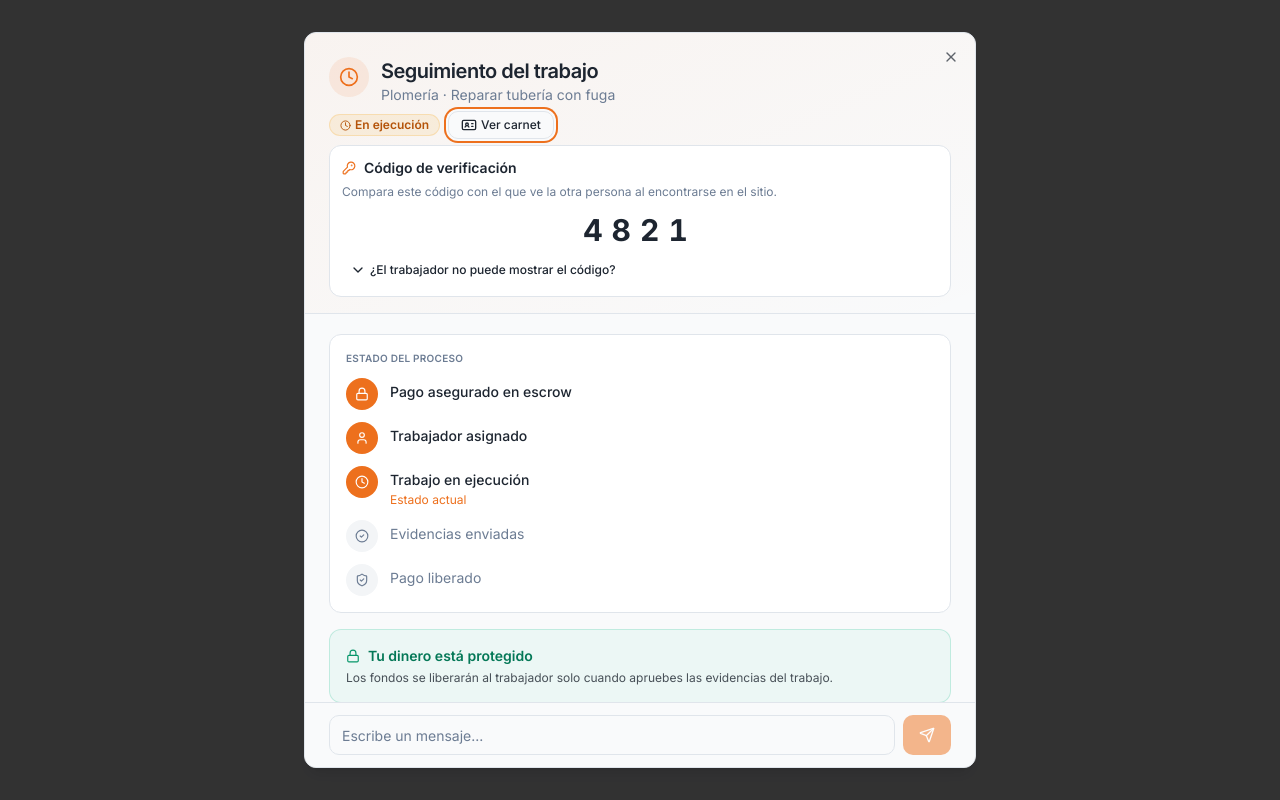
ProgresoTrabajoDialog - código de verificación › al cliente, expandir el botón de verificación alterna muestra nombre y últimos 3 dígitos del documento
Step 1. Click the button "¿El trabajador no puede mostrar el código?" → (483, 270), box [342,256,624,284]
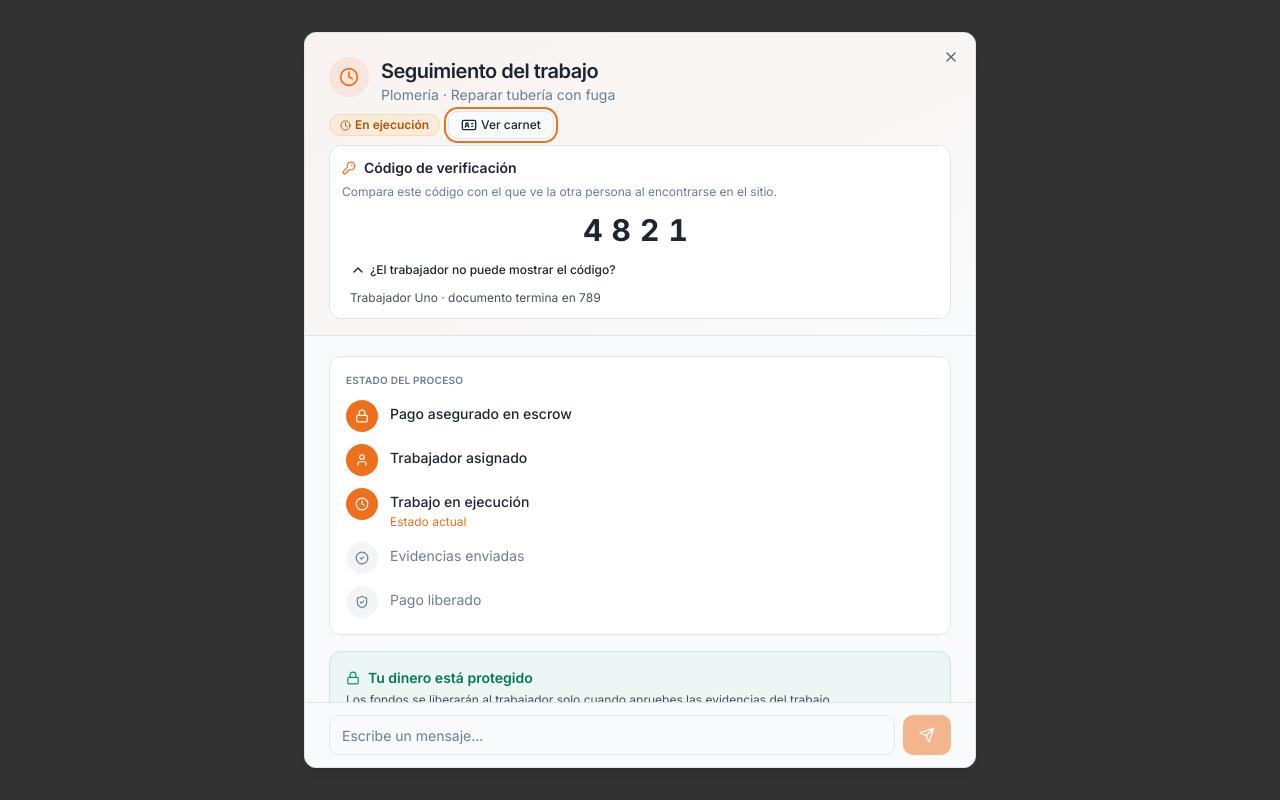
Result: the text "Trabajador Uno · documento termina en 789" is shown at [350,290,601,305]
